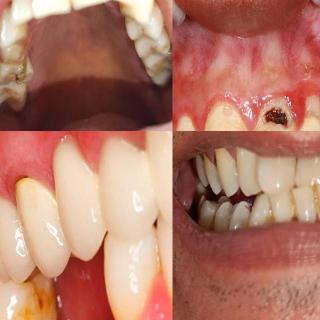Gum Swelling: (172, 75, 320, 131), (0, 132, 57, 201), (85, 131, 144, 175)
calculus: (8, 34, 36, 61), (116, 0, 134, 22), (122, 13, 138, 35), (289, 194, 302, 218), (311, 191, 320, 225)
cavities: (263, 97, 291, 131), (0, 66, 36, 86)
maligned: (257, 150, 299, 192), (291, 184, 315, 228), (172, 103, 205, 131), (295, 150, 320, 186), (314, 180, 320, 218)
plaque: (204, 95, 250, 131), (173, 113, 205, 131)
stains: (0, 287, 54, 320), (0, 87, 20, 108), (146, 37, 162, 60), (239, 204, 256, 224), (264, 204, 278, 226)
